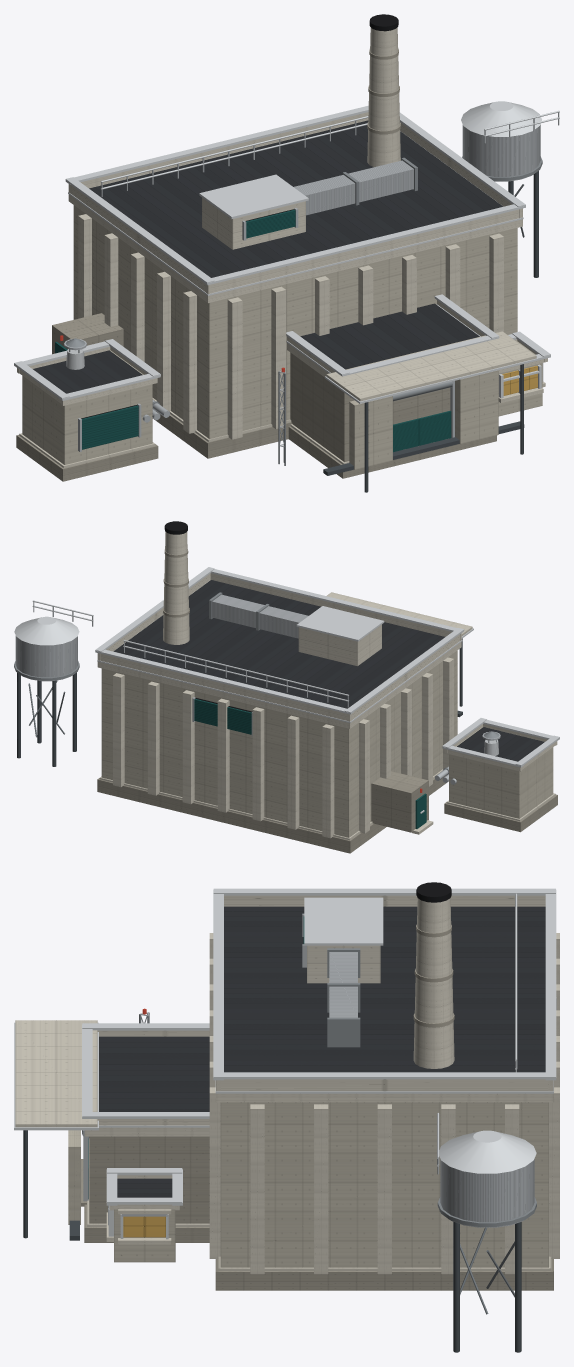
Rendered from lf-3-built.glb.
The picture shows the model from 3 angles, top to bottom: view 1: azimuth 30°, elevation 25°; view 2: azimuth 150°, elevation 25°; view 3: azimuth 270°, elevation 25°; orthographic projection. The views are drawn at different scales.
Size of the model in its own units: 39.32 by 19.99 by 26.6.
Materials: 36 (27 with a texture image).
